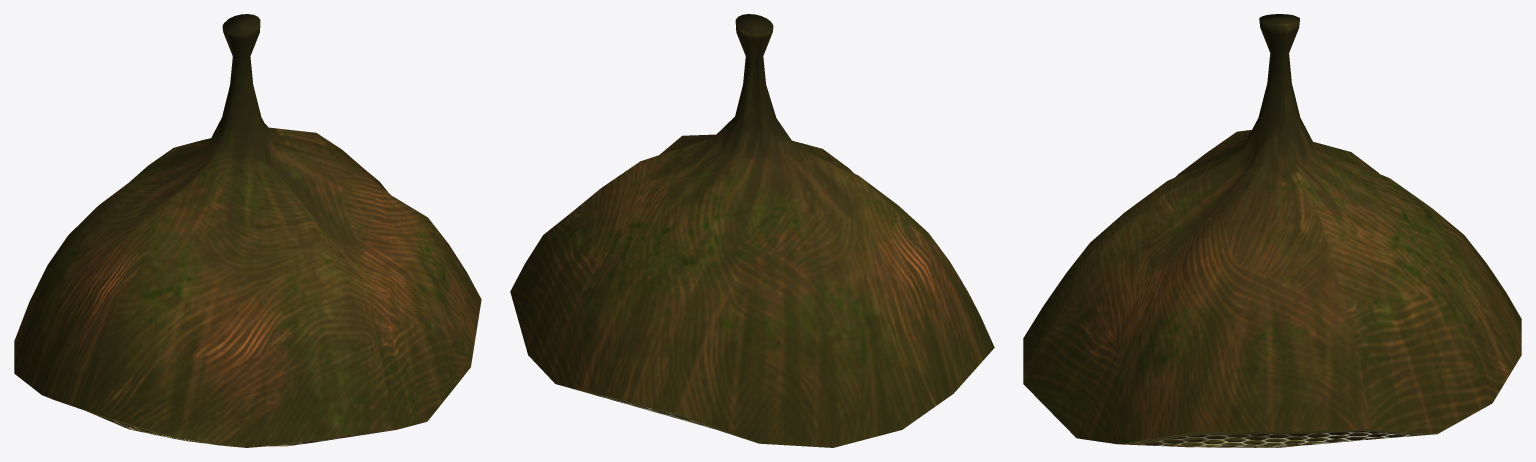
The model's file is honeycomb01.FBX.
The picture shows the model from 3 angles, left to right: view 1: azimuth 30°, elevation 25°; view 2: azimuth 150°, elevation 25°; view 3: azimuth 270°, elevation 25°; orthographic projection. The views are drawn at different scales.
Parts seen in each view (by area): view 1: Cone001; view 2: Cone001; view 3: Cone001.
Part boxes in pixels (left/top/right/bottom): Cone001: left=14, top=14, right=481, bottom=447; Cone001: left=510, top=14, right=994, bottom=447; Cone001: left=1023, top=14, right=1521, bottom=447.
Bounding box in the file's own units: 23.17 × 21.17 × 23.35.
